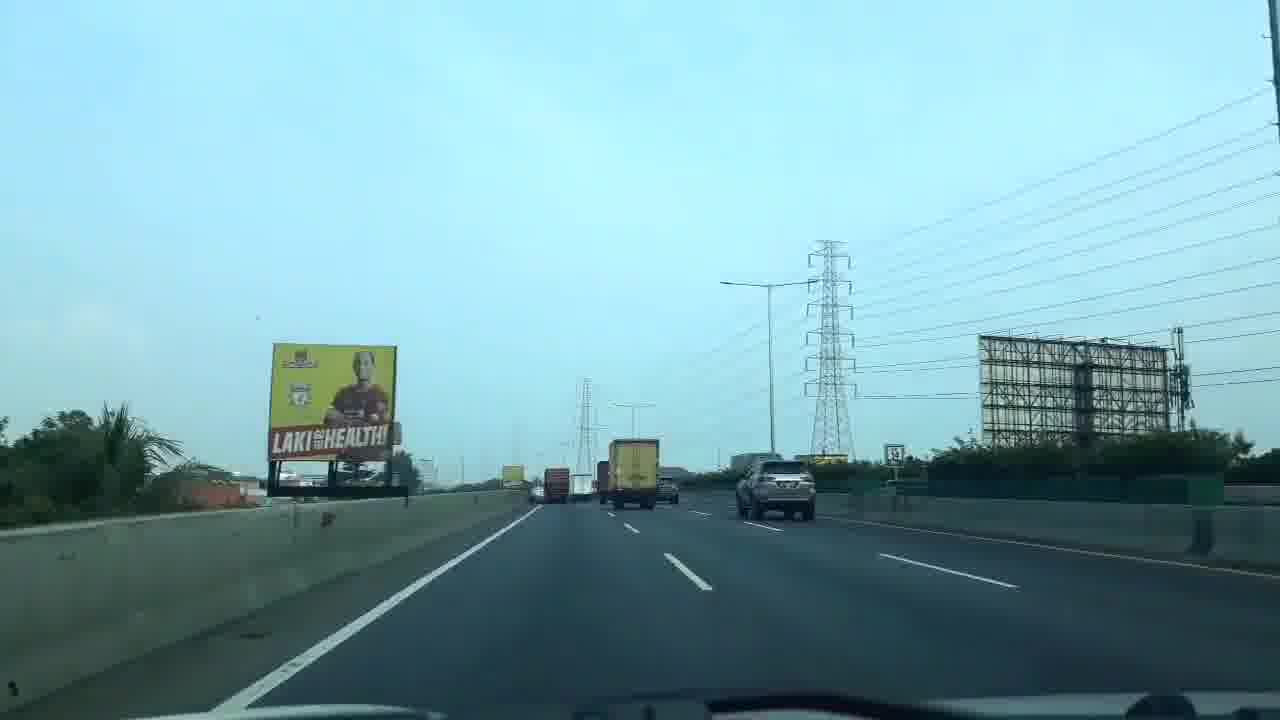plate_positive: (779, 481, 797, 488)
